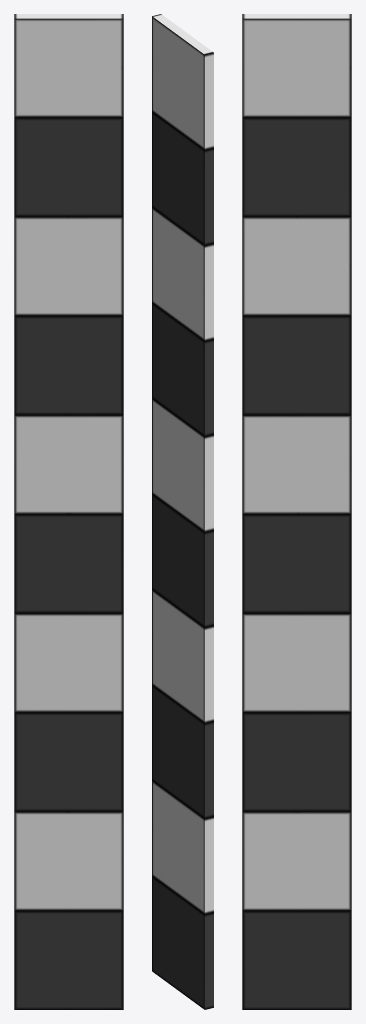
Rendered from SM_Modular_Wall_1x10_BlackBase.fbx.
3 renders of one model, left to right at view 1: azimuth 90°, elevation 25°; view 2: azimuth 210°, elevation 25°; view 3: azimuth 270°, elevation 25°, orthographic. The views are drawn at different scales.
Visible parts, largest first — view 1: Modular_Wall_1x10_BlackBase; view 2: Modular_Wall_1x10_BlackBase; view 3: Modular_Wall_1x10_BlackBase.
Part boxes in pixels (x1,y1,x2,y2): Modular_Wall_1x10_BlackBase: [14, 14, 123, 1009]; Modular_Wall_1x10_BlackBase: [152, 14, 213, 1009]; Modular_Wall_1x10_BlackBase: [242, 14, 351, 1009].
Bounding box in the file's own units: 10 × 1000 × 100.
